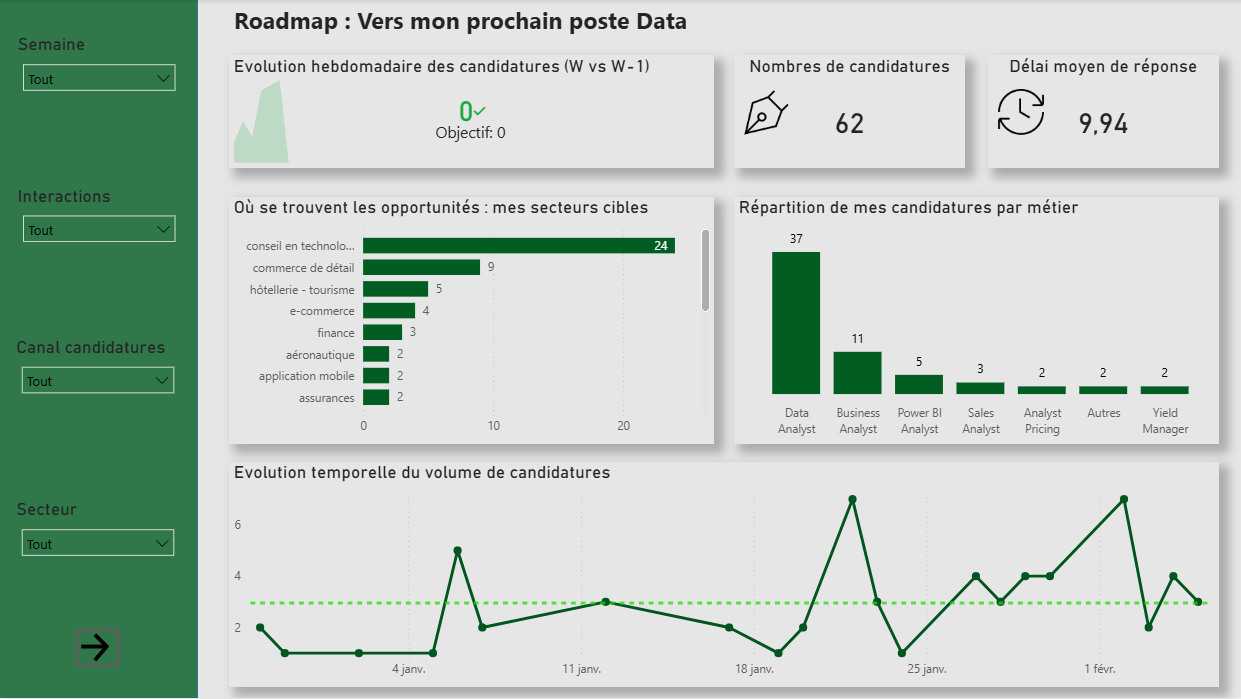

The dashboard page shown, as its layout file describes it:
{"tool":"powerbi","page":{"name":"Page 1","canvas":[1280,720],"ordinal":0},"visuals":[{"type":"shape","box":[0,0,206,720.3],"z":0},{"type":"barChart","title":"Où se trouvent les opportunités : mes secteurs cibles","fields":{"Category":["vue_suivi_complet.secteur"],"Y":["CountNonNull(vue_suivi_complet.id_candidature)"]},"box":[237.7,202.7,499.5,254.6],"z":1000},{"type":"lineChart","title":"Evolution temporelle du volume de candidatures","fields":{"Category":["vue_suivi_complet.date_postule"],"Y":["CountNonNull(vue_suivi_complet.id_candidature)"]},"box":[237.7,476.5,1019.4,231.6],"z":2000},{"type":"card","title":"Délai moyen de réponse","fields":{"Values":["_Mesures.Delai Moyen Reponse"]},"box":[1019.4,57.9,237.7,115.8],"z":3000},{"type":"card","title":"Nombres de candidatures","fields":{"Values":["_Mesures.Nb_Candidatures"]},"box":[757.6,57.9,237.7,115.8],"z":4000},{"type":"clusteredColumnChart","title":"Répartition de mes candidatures par métier","fields":{"Y":["_Mesures.Nb_Offres"],"Category":["vue_analyse_offres_completes.categorie_poste"]},"box":[757.6,202.7,499.5,254.6],"z":5000},{"type":"image","box":[757.6,94.1,66.4,45.8],"z":6000},{"type":"image","box":[1019.4,92.9,67.6,47.1],"z":7000},{"type":"kpi","title":"Evolution hebdomadaire des candidatures (W vs W-1)","fields":{"Indicator":["_Mesures.Candidatures Semaine"],"Goal":["_Mesures.Candidatures Semaine -1"],"TrendLine":["Calendrier.Semaine_Num"]},"box":[237.7,57.9,499.5,115.8],"z":8000},{"type":"slicer","title":"Secteur","fields":{"Values":["vue_suivi_complet.secteur"]},"box":[14,514.3,177.4,79],"z":9000},{"type":"slicer","title":"Interactions","fields":{"Values":["vue_suivi_complet.type_interaction"]},"box":[15.3,191.4,177.4,79],"z":10000},{"type":"slicer","title":"Canal candidatures","fields":{"Values":["vue_analyse_offres_completes.canal_postulation"]},"box":[14,347.1,177,79],"z":11000},{"type":"slicer","title":"Semaine","fields":{"Values":["Calendrier.Semaine_Num"]},"box":[15.7,36.2,177.3,79.6],"z":12000},{"type":"actionButton","box":[79.6,649.1,45.8,38.6],"z":13000},{"type":"textbox","box":[237.7,0,510.3,57.9],"z":14000}]}

Visuals, with their boxes on the page's 1280x720 design canvas (x1, y1, x2, y2). These are canvas units, not pixel positions in the 1241x699 screenshot, which may show the page scaled, cropped or inside an application window:
shape: x1=0 y1=0 x2=206 y2=720
"Où se trouvent les opportunités : mes secteurs cibles" barChart: x1=238 y1=203 x2=737 y2=457
"Evolution temporelle du volume de candidatures" lineChart: x1=238 y1=476 x2=1257 y2=708
"Délai moyen de réponse" card: x1=1019 y1=58 x2=1257 y2=174
"Nombres de candidatures" card: x1=758 y1=58 x2=995 y2=174
"Répartition de mes candidatures par métier" clusteredColumnChart: x1=758 y1=203 x2=1257 y2=457
image: x1=758 y1=94 x2=824 y2=140
image: x1=1019 y1=93 x2=1087 y2=140
"Evolution hebdomadaire des candidatures (W vs W-1)" kpi: x1=238 y1=58 x2=737 y2=174
"Secteur" slicer: x1=14 y1=514 x2=191 y2=593
"Interactions" slicer: x1=15 y1=191 x2=193 y2=270
"Canal candidatures" slicer: x1=14 y1=347 x2=191 y2=426
"Semaine" slicer: x1=16 y1=36 x2=193 y2=116
actionButton: x1=80 y1=649 x2=125 y2=688
textbox: x1=238 y1=0 x2=748 y2=58
